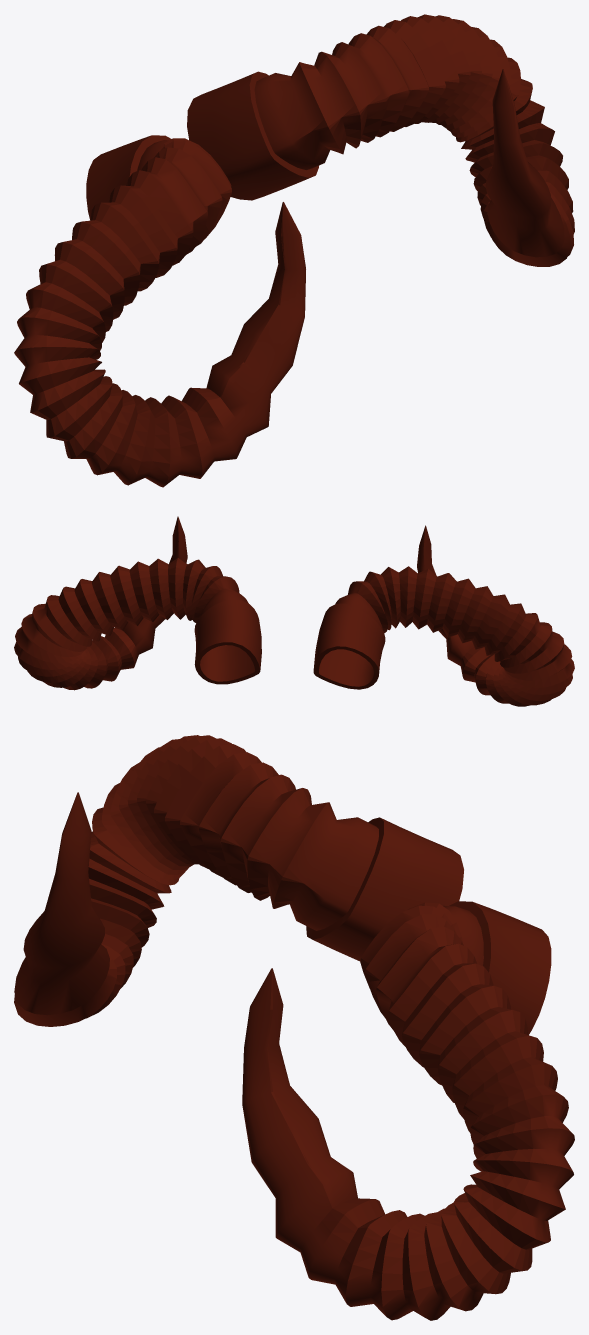
3 views of the same model, one above another, from view 1: azimuth 30°, elevation 25°; view 2: azimuth 150°, elevation 25°; view 3: azimuth 270°, elevation 25° (orthographic). The views are drawn at different scales.
Visible parts, largest first — view 1: horns; view 2: horns; view 3: horns.
Boxes of the visible parts, x1=… form: horns: x1=14, y1=14, x2=574, y2=487; horns: x1=14, y1=516, x2=574, y2=706; horns: x1=14, y1=735, x2=574, y2=1320.
Bounding box in the file's own units: 126 × 73.84 × 42.59.
